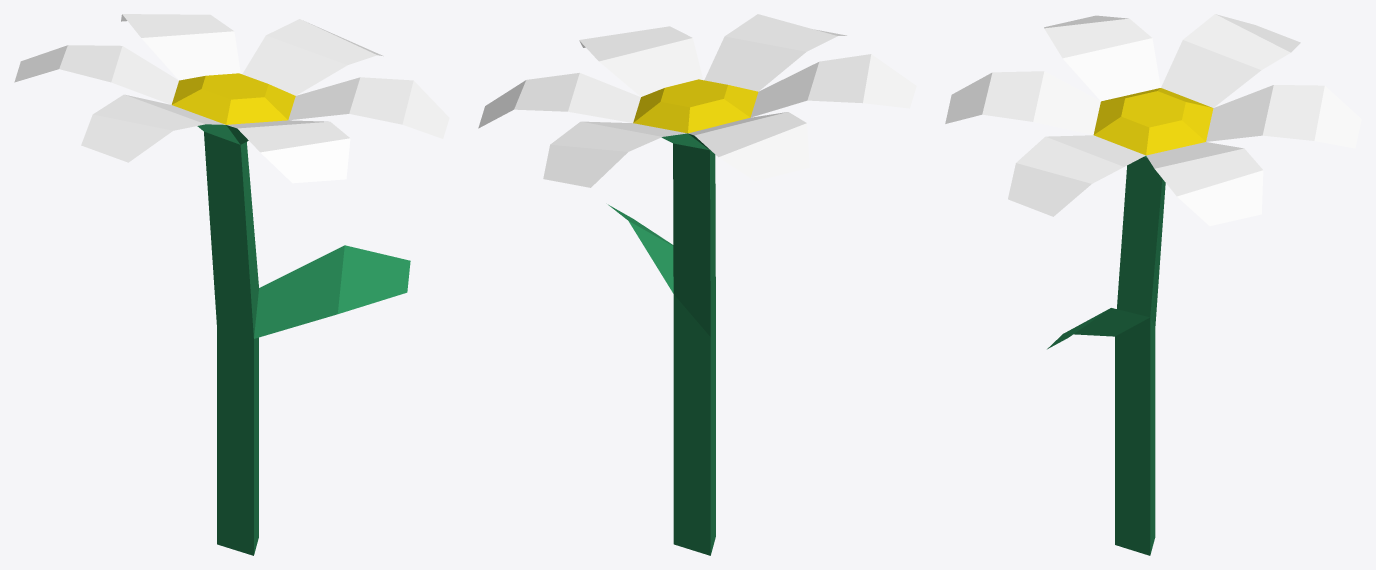
Rendered from flowre1.gltf.
3 renders of one model, left to right at view 1: azimuth 30°, elevation 25°; view 2: azimuth 150°, elevation 25°; view 3: azimuth 270°, elevation 25°, orthographic. The views are drawn at different scales.
Visible parts, largest first — view 1: Circle.006_Circle.007; view 2: Circle.006_Circle.007; view 3: Circle.006_Circle.007.
Part boxes in pixels (bbox=[...]): Circle.006_Circle.007: bbox=[14, 14, 449, 555]; Circle.006_Circle.007: bbox=[478, 14, 916, 555]; Circle.006_Circle.007: bbox=[945, 14, 1361, 555].
Size of the model in its own units: 26.19 by 33.38 by 27.16.
Materials: 1 (1 with a texture image).
